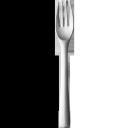fork: (47, 1, 84, 128)
